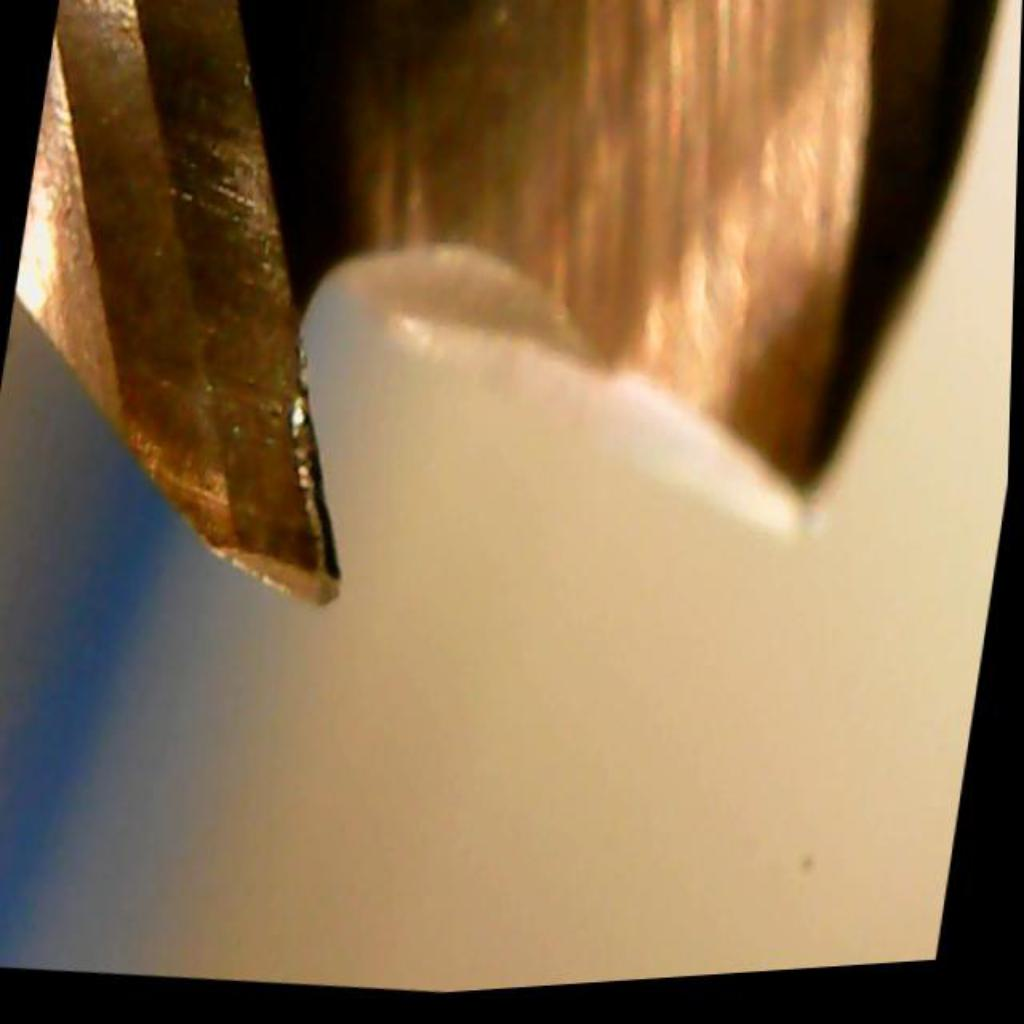Tool-wear-class-1: (155, 250, 422, 640)
